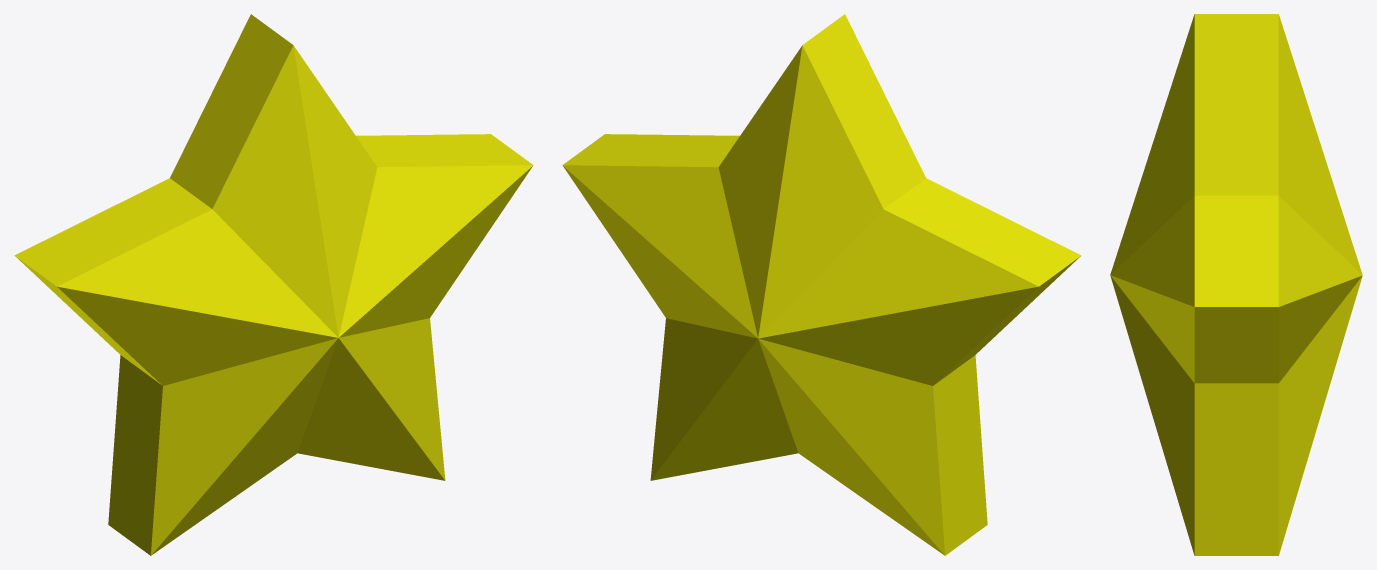
The model's file is estrella amarilla.glb.
The picture shows the model from 3 angles, left to right: view 1: azimuth 30°, elevation 25°; view 2: azimuth 150°, elevation 25°; view 3: azimuth 270°, elevation 25°; orthographic projection.
Visible parts, largest first — view 1: Cylinder; view 2: Cylinder; view 3: Cylinder.
Part boxes in pixels (<box>): Cylinder: <box>14,14,533,555</box>; Cylinder: <box>562,14,1081,555</box>; Cylinder: <box>1110,14,1362,555</box>.
Bounding box in the file's own units: 1.9 × 1.81 × 0.881.
